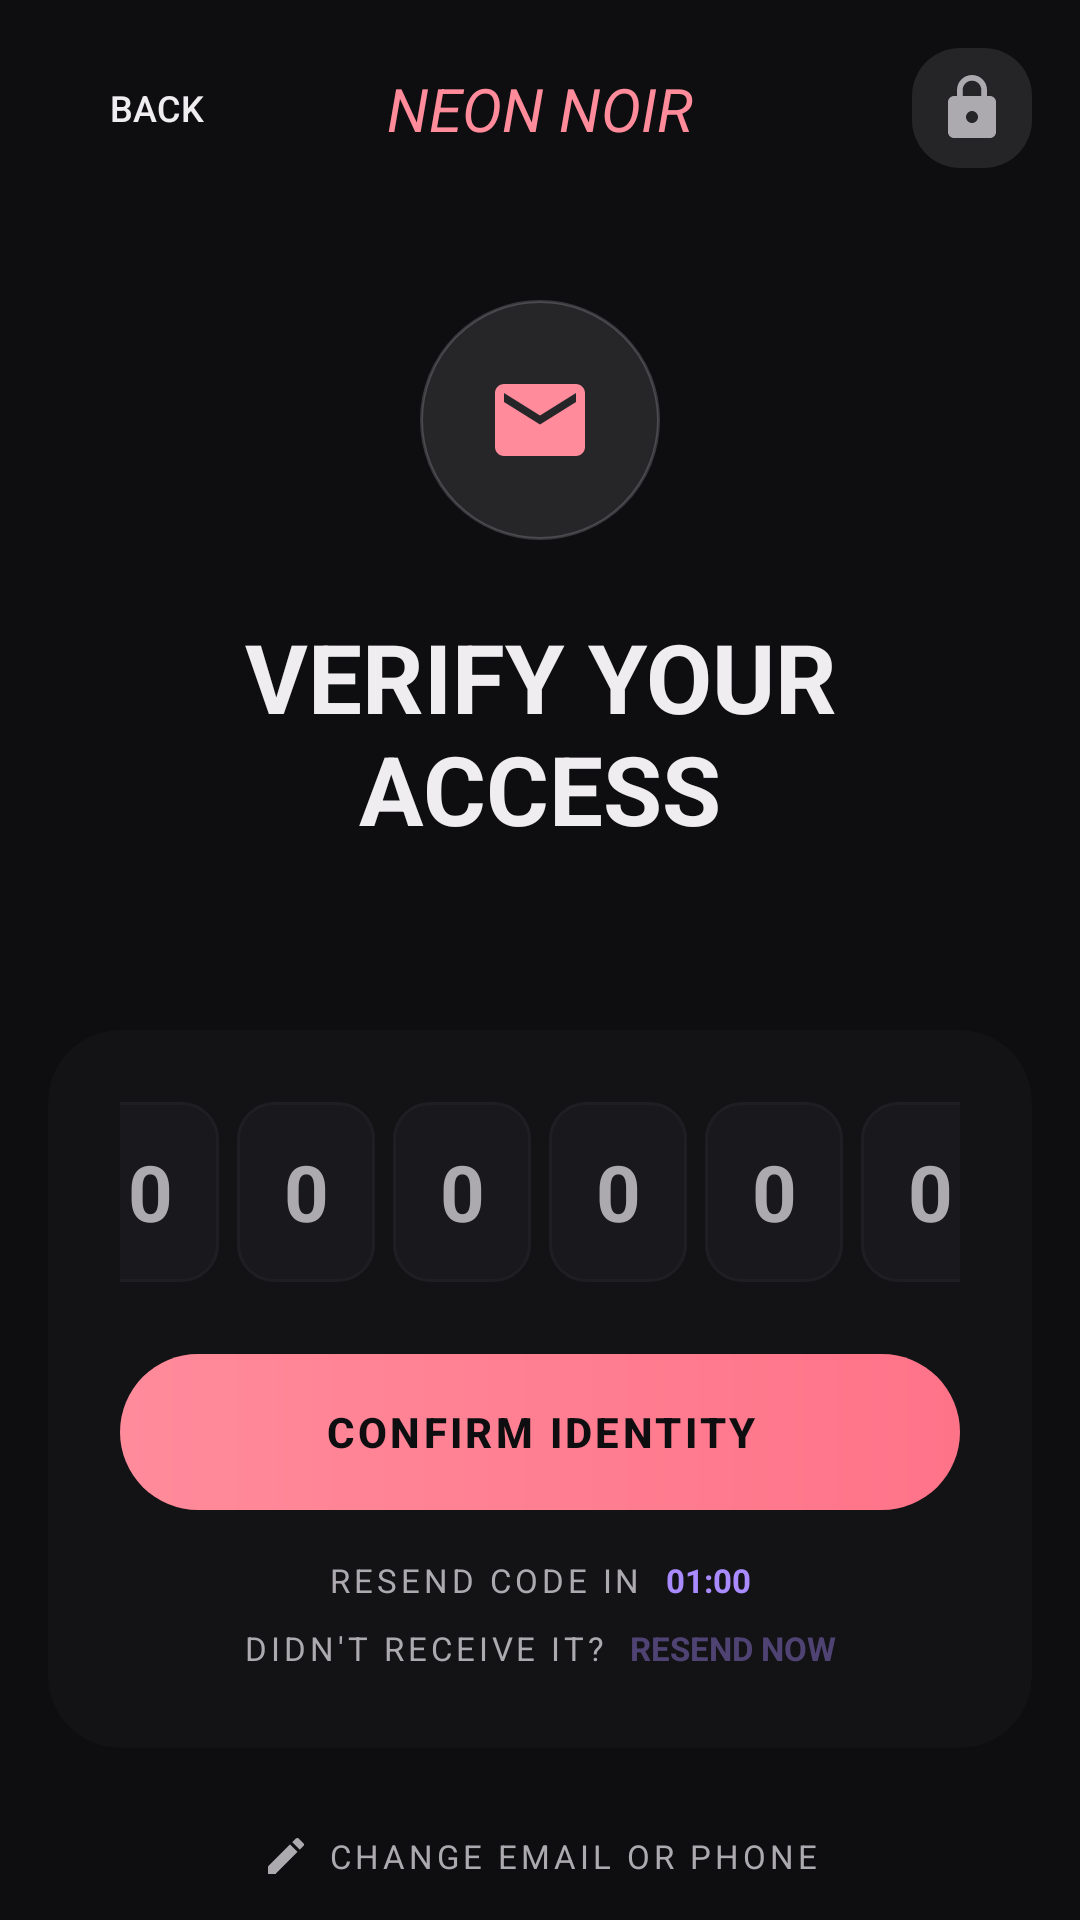

Locate icon controls on the screen. Image size 1080w x 1920h, boxes as box=[x1, y1, x2, y2].
edit: box=[268, 1838, 304, 1874]
email: box=[495, 384, 585, 456]
lock: box=[948, 75, 996, 138]
